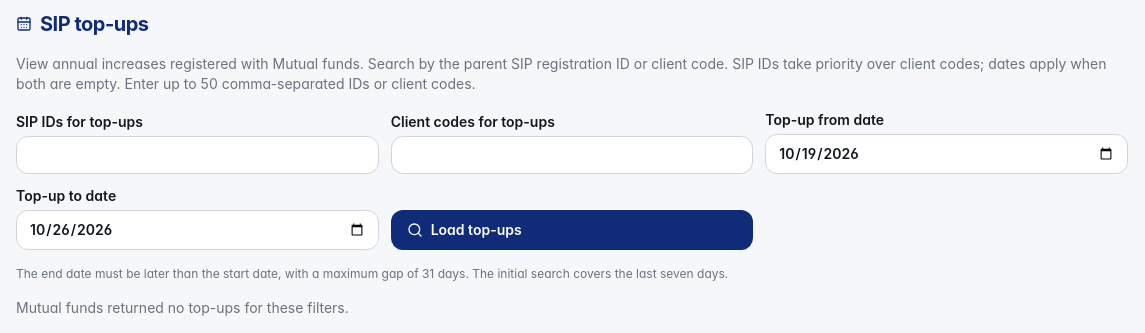
Test: filters by parent SIP and shows genuine empty results
Expected: the message "Mutual funds returned no top-ups for these filters." is shown, [16,299,349,316]
Type "123" into the field labelled "SIP IDs for top-ups" at (197, 155), box [16,136,379,174]
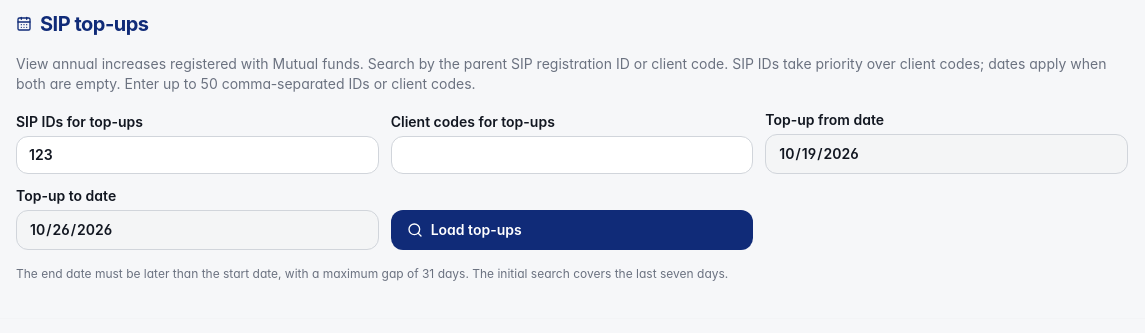
Click the button "Load top-ups" at (476, 230), box [391,210,753,250]
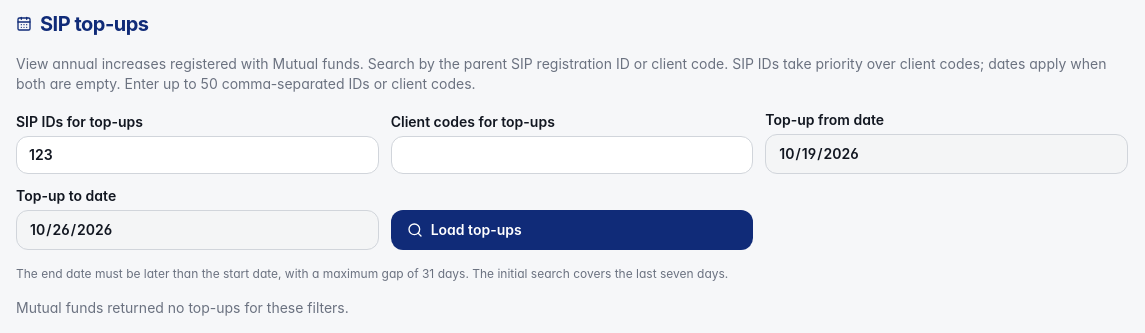
Now the message shows "Mutual funds returned no top-ups", box [16,299,349,316]
